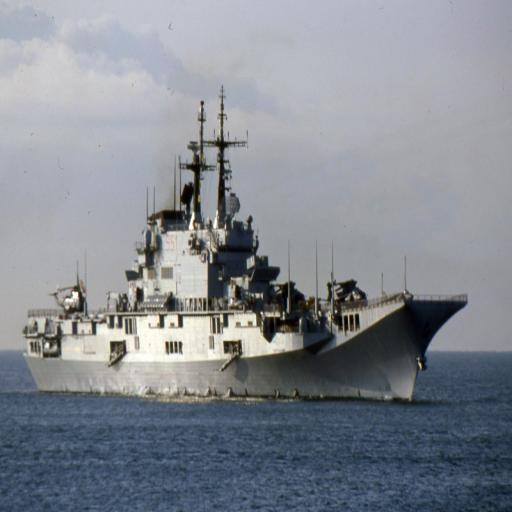Portanaves: (17, 82, 477, 404)
